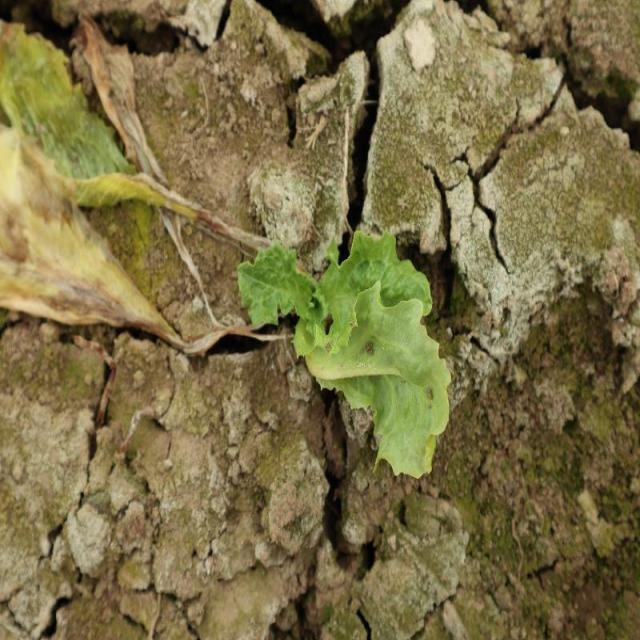crop: (236, 225, 454, 482)
